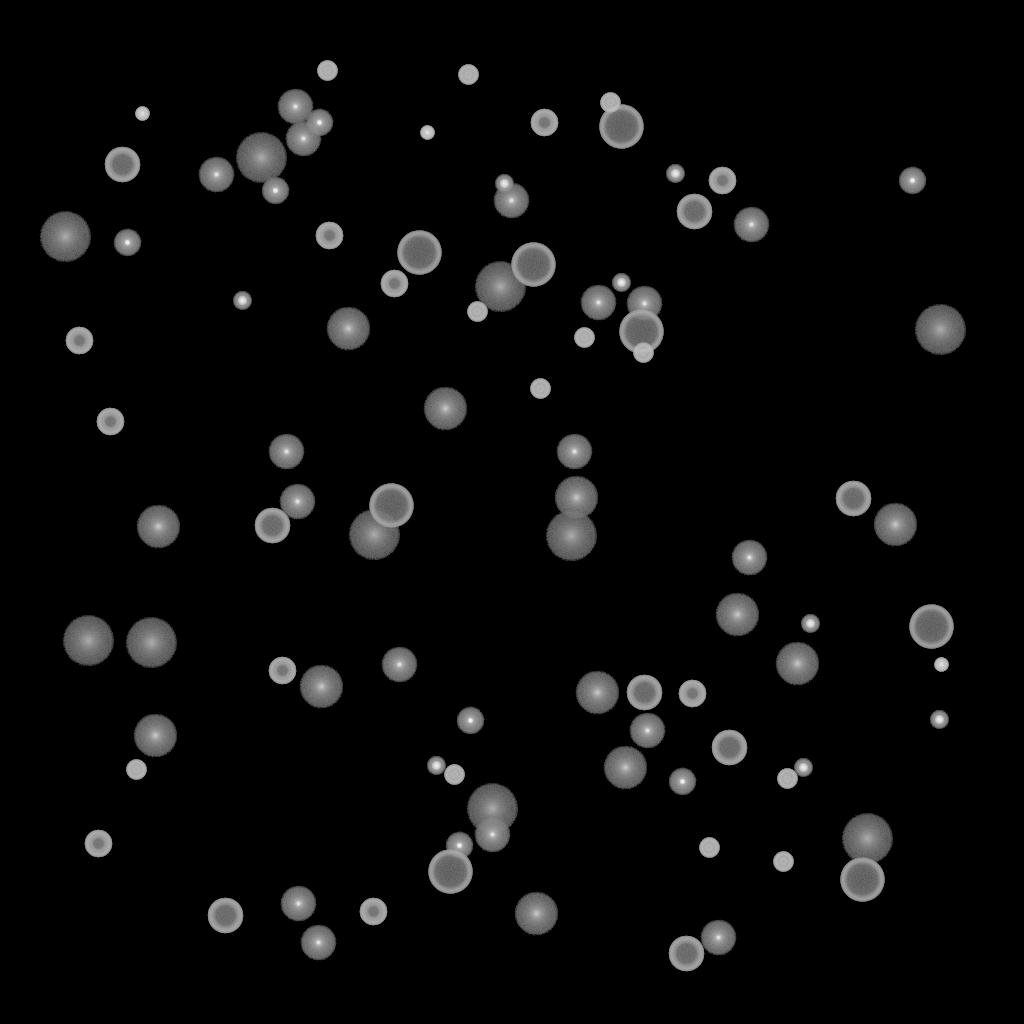depth:-10: (445, 832, 473, 860), (898, 167, 926, 195), (113, 229, 141, 257), (261, 177, 289, 205), (456, 707, 484, 735), (668, 768, 696, 796), (305, 109, 333, 137)
depth:-20: (495, 175, 513, 193), (666, 165, 684, 183), (612, 274, 630, 292), (801, 615, 819, 633), (427, 757, 445, 775), (794, 759, 812, 777), (930, 711, 948, 729), (233, 292, 251, 310)
depth:-30: (934, 658, 948, 672), (135, 107, 149, 121), (420, 126, 434, 140)
depth:-40: (773, 852, 793, 872), (600, 93, 620, 113), (458, 65, 478, 85), (530, 379, 550, 399), (126, 760, 146, 780), (699, 838, 719, 858), (444, 765, 464, 785), (574, 328, 594, 348), (317, 61, 337, 81), (777, 769, 797, 789), (467, 302, 487, 322), (633, 343, 653, 363)
depth:-50: (268, 657, 296, 685), (96, 408, 124, 436), (708, 167, 736, 195), (678, 680, 706, 708), (359, 898, 387, 926), (65, 327, 93, 355), (84, 830, 112, 858), (315, 222, 343, 250), (380, 270, 408, 298), (530, 109, 558, 137)
depth:-60: (835, 481, 871, 517), (254, 508, 290, 544), (626, 675, 662, 711), (668, 936, 704, 972), (711, 730, 747, 766), (104, 147, 140, 183), (207, 898, 243, 934), (676, 194, 712, 230)
depth:-70: (397, 231, 441, 275), (909, 605, 953, 649), (369, 484, 413, 528), (428, 850, 472, 894), (511, 243, 555, 287), (619, 310, 663, 354), (840, 858, 884, 902), (599, 105, 643, 149)
depth:0: (280, 886, 316, 922), (733, 207, 769, 243), (300, 925, 336, 961), (277, 89, 313, 125), (268, 434, 304, 470), (474, 817, 510, 853), (580, 285, 616, 321), (731, 540, 767, 576), (626, 286, 662, 322), (493, 183, 529, 219), (279, 484, 315, 520), (381, 647, 417, 683), (629, 713, 665, 749), (285, 121, 321, 157), (700, 920, 736, 956), (556, 434, 592, 470), (198, 157, 234, 193)
depth:10: (715, 593, 759, 637), (326, 307, 370, 351), (575, 671, 619, 715), (775, 642, 819, 686), (423, 387, 467, 431), (514, 892, 558, 936), (136, 505, 180, 549), (554, 476, 598, 520), (133, 714, 177, 758), (299, 665, 343, 709), (873, 503, 917, 547), (603, 746, 647, 790)
depth:20: (474, 262, 526, 312), (841, 814, 893, 864), (348, 510, 400, 560), (39, 212, 91, 262), (235, 133, 287, 183), (914, 305, 966, 355), (545, 511, 597, 561), (466, 784, 518, 834), (125, 618, 177, 668), (62, 616, 114, 666)
